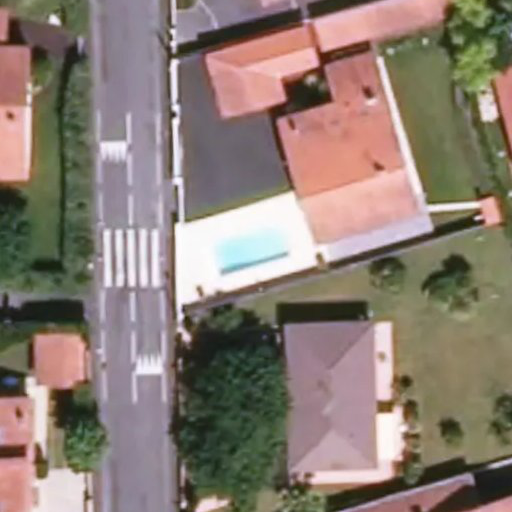pool: (210, 236, 301, 247)
